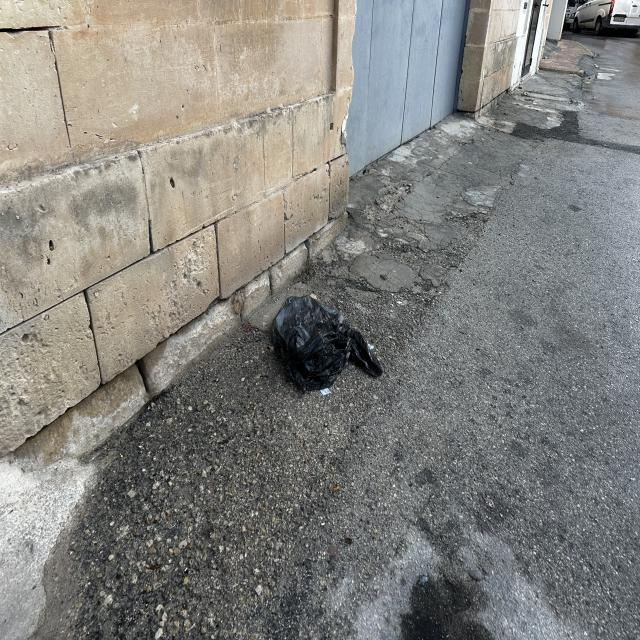Mixed Waste -Black Bags-: (272, 294, 383, 394)
